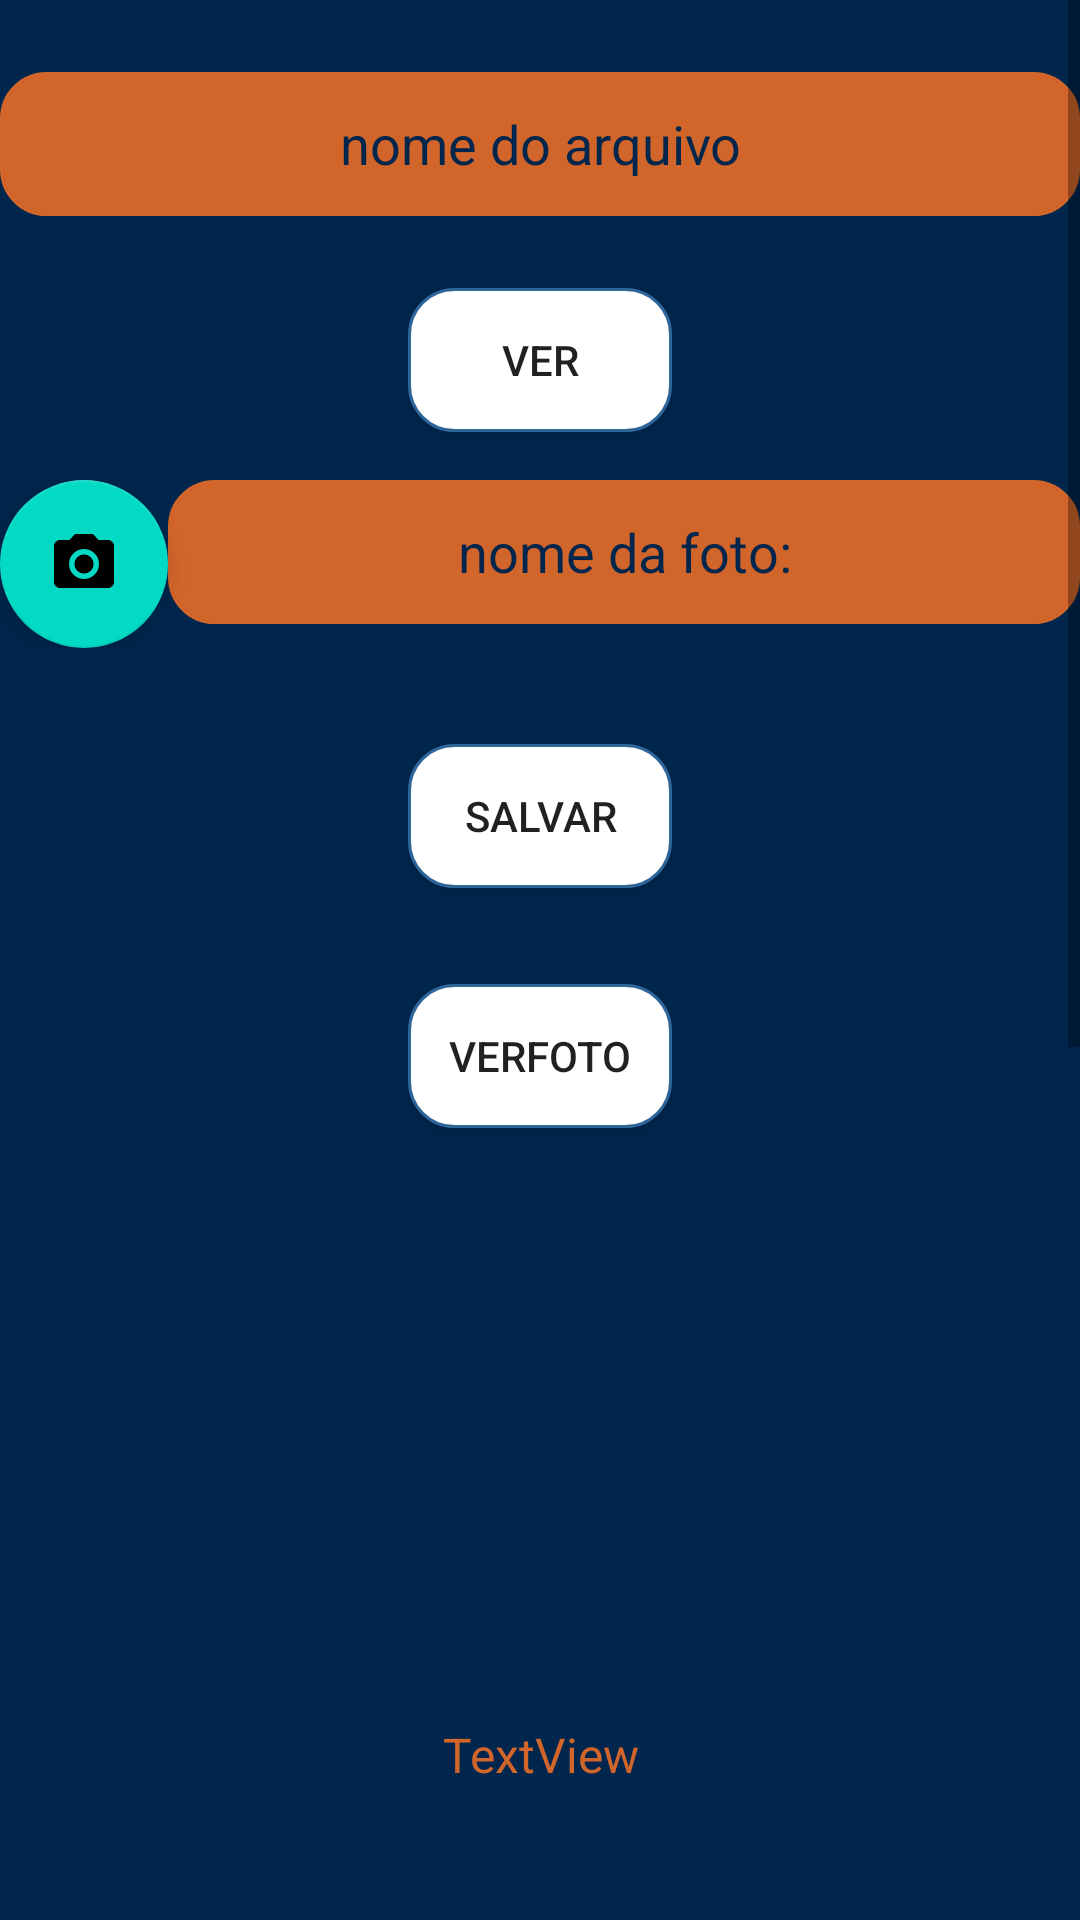

Screen size 1080×1920. Icon name, then its box in pixels as [left=x1, top=y1, right=x2, bottom=y2]:
camera: [left=0, top=480, right=168, bottom=648]
